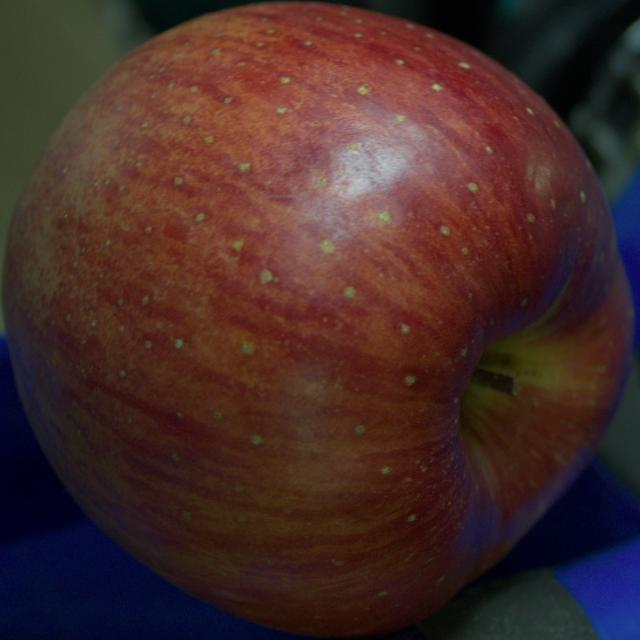apple: (2, 2, 633, 638)
